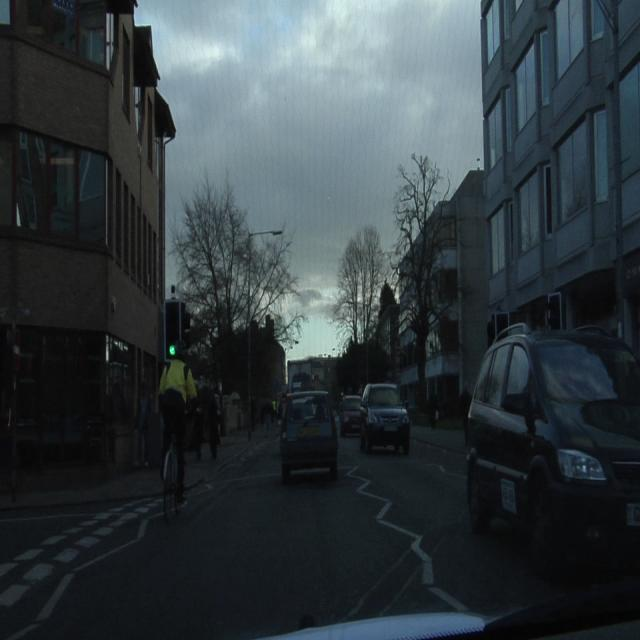Bicyclist: (161, 387, 186, 518)
Building: (1, 0, 176, 470), (483, 0, 638, 352), (396, 170, 488, 411)
Car: (466, 325, 639, 556), (281, 392, 339, 482), (339, 384, 409, 452)
Road: (0, 433, 636, 633)
Tree: (173, 185, 293, 391), (393, 159, 448, 370), (334, 225, 386, 344)
person: (160, 387, 186, 518), (199, 381, 219, 458)
